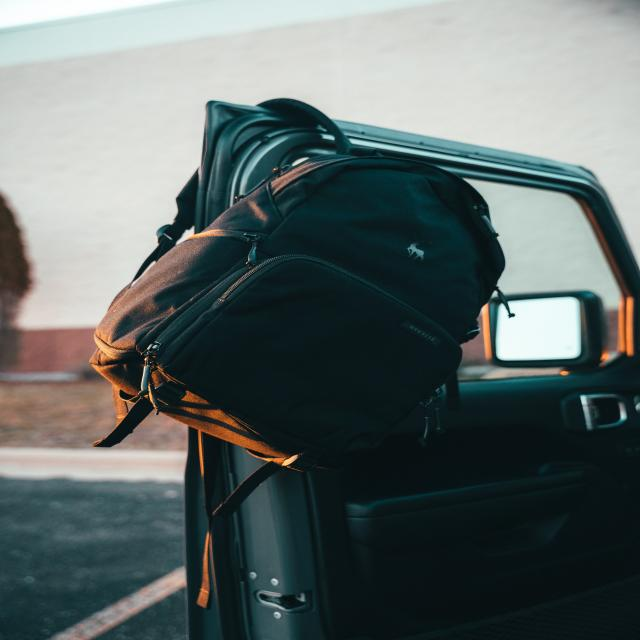backpack: (104, 100, 502, 468)
